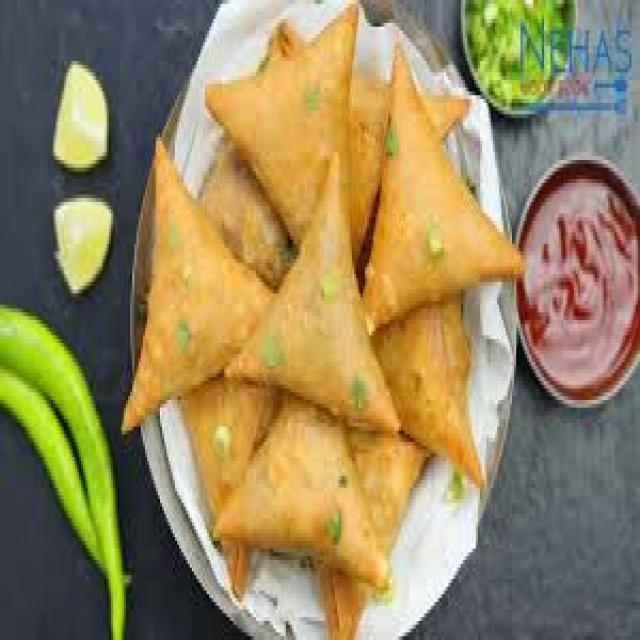SAMOSA: (226, 160, 399, 430), (365, 50, 523, 328), (124, 145, 271, 427), (205, 8, 352, 236), (220, 400, 386, 587), (375, 297, 480, 480), (183, 385, 277, 518), (205, 145, 294, 282), (348, 11, 388, 255), (350, 430, 425, 552), (322, 568, 369, 636)
